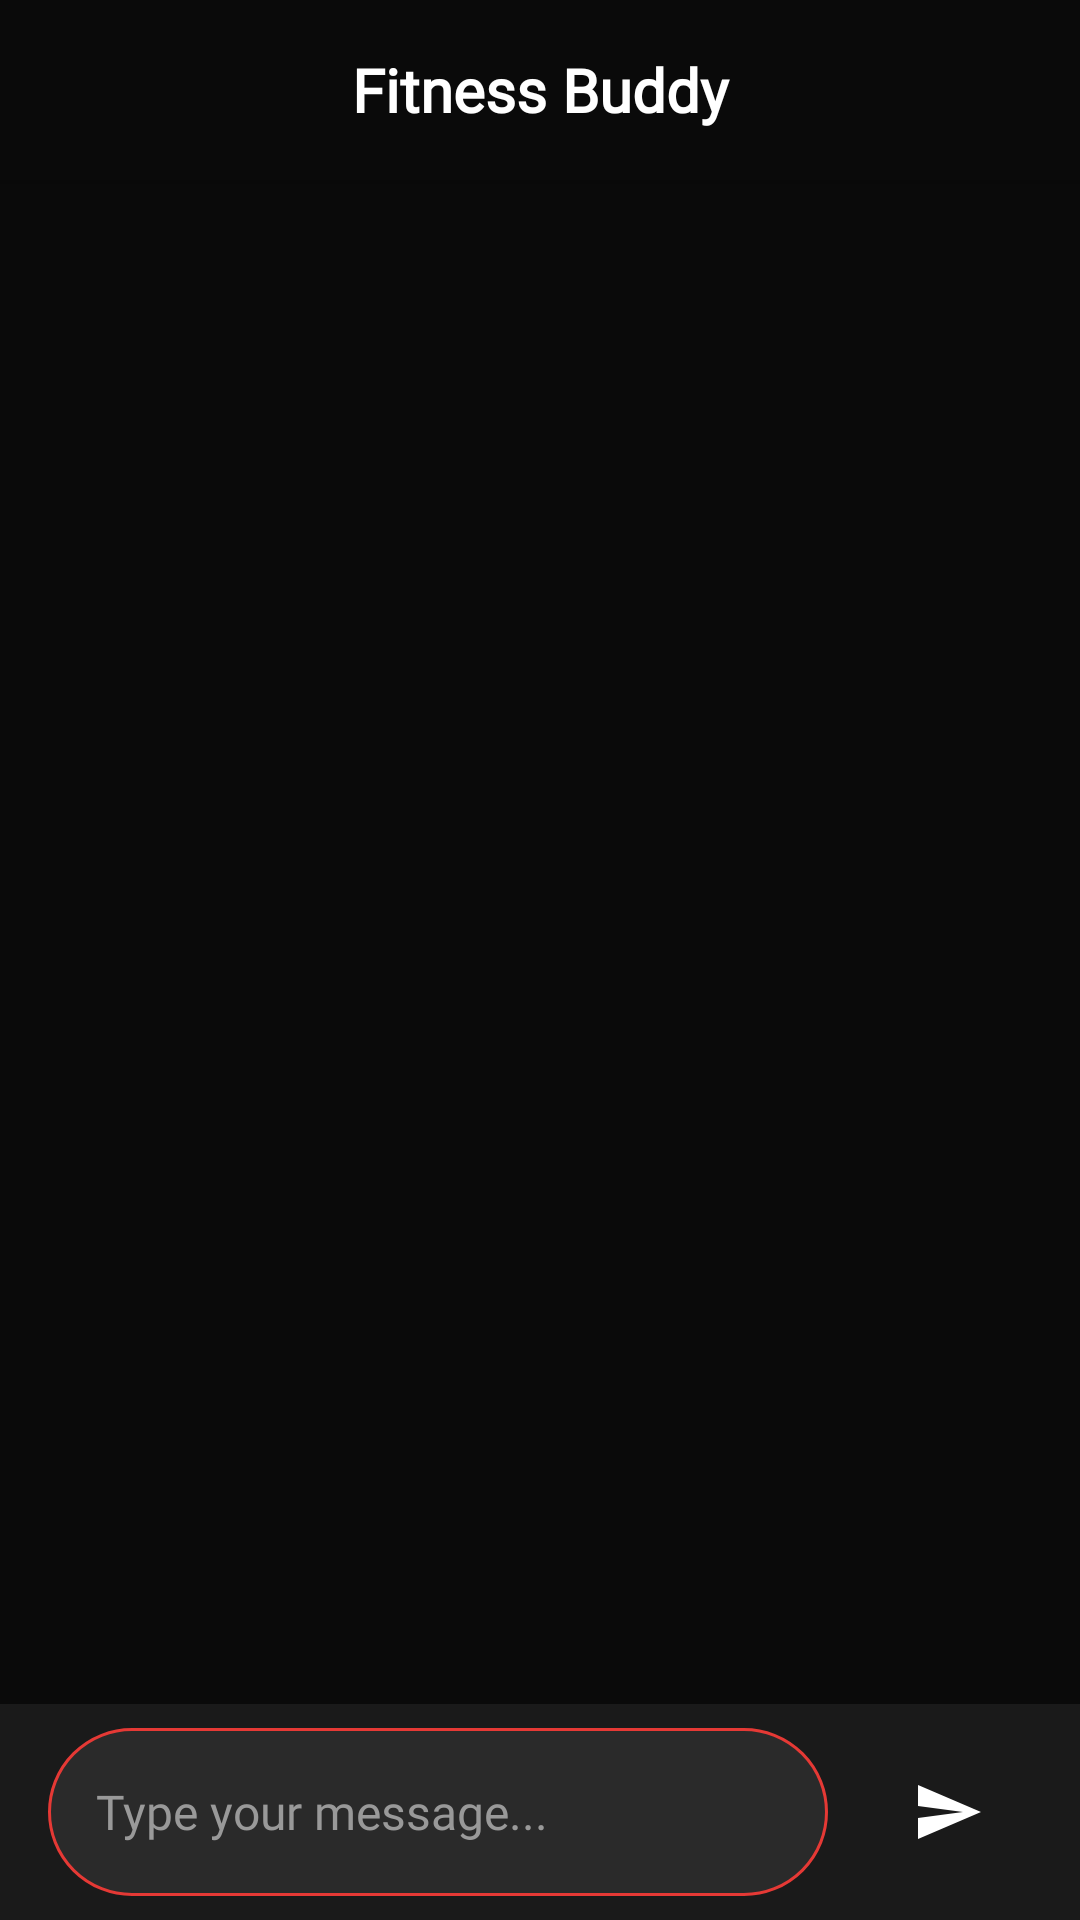

Locate icon controls on the screen. Image size 1080×1920, boxes as (x1=x1, y1=y1, x2=x2, y2=y2).
Send: (x1=918, y1=1785, x2=981, y2=1839)
